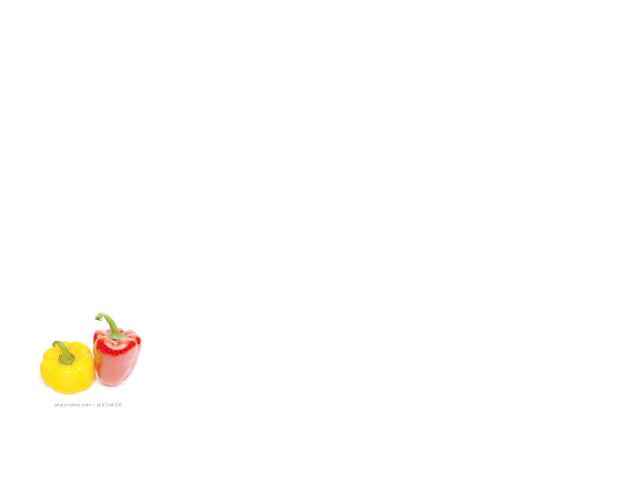bell_pepper: (37, 336, 97, 399)
